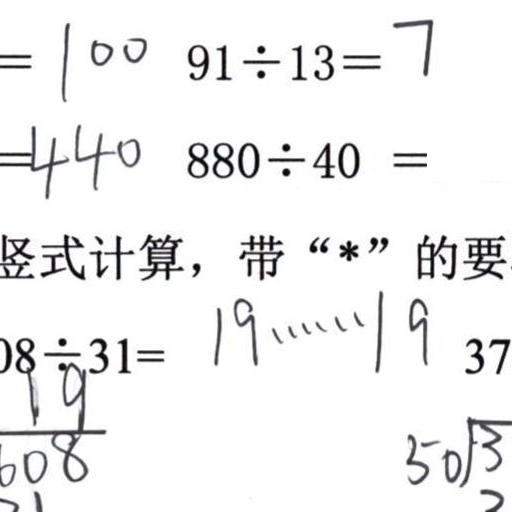ans: (204, 284, 432, 372), (23, 117, 141, 197), (50, 16, 148, 100), (389, 9, 434, 75)
